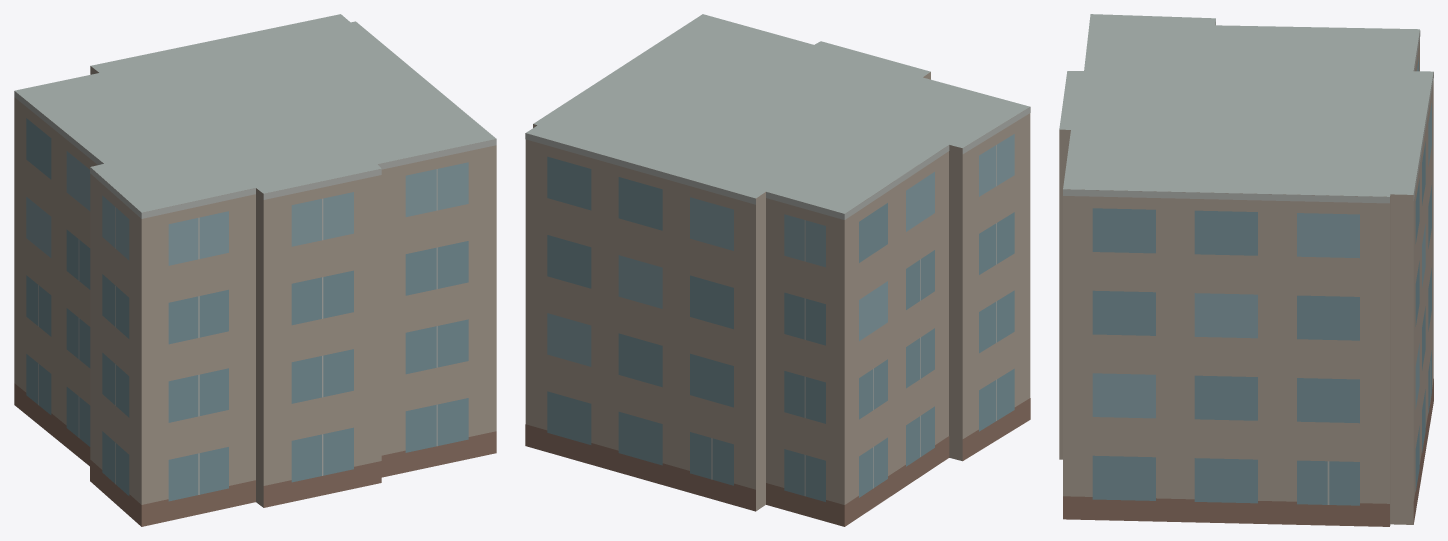
The model's file is survey-upis-32925175.glb.
The picture shows the model from 3 angles, left to right: view 1: azimuth 30°, elevation 25°; view 2: azimuth 150°, elevation 25°; view 3: azimuth 270°, elevation 25°; orthographic projection. The views are drawn at different scales.
Parts seen in each view (by area): view 1: survey-upis-32925175.tmp; view 2: survey-upis-32925175.tmp; view 3: survey-upis-32925175.tmp.
Part boxes in pixels (x1,y1,x2,y2): survey-upis-32925175.tmp: [14, 14, 496, 526]; survey-upis-32925175.tmp: [525, 14, 1030, 526]; survey-upis-32925175.tmp: [1059, 14, 1433, 526].
Size of the model in its own units: 14.51 by 12.2 by 12.56.
